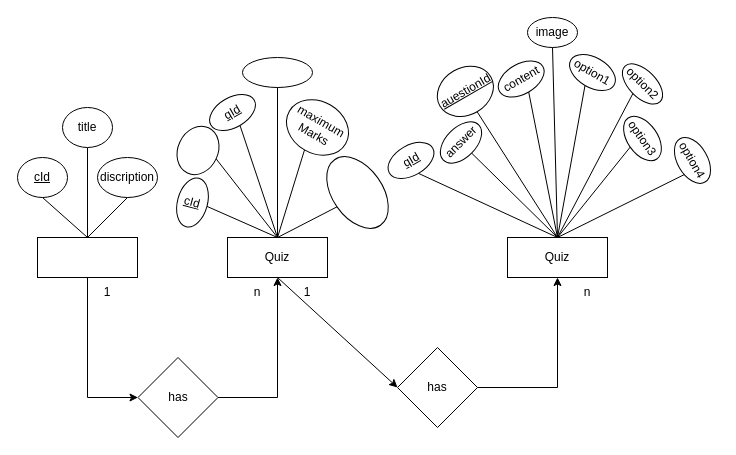
Image size: 736x455. Some labels were removed from this diagram. The centre of each missing label's shape, as x and y in pixels:
active: pixel 197 150
Category: pixel 87 257
didscription: pixel 277 72
numberOf Question: pixel 357 192
